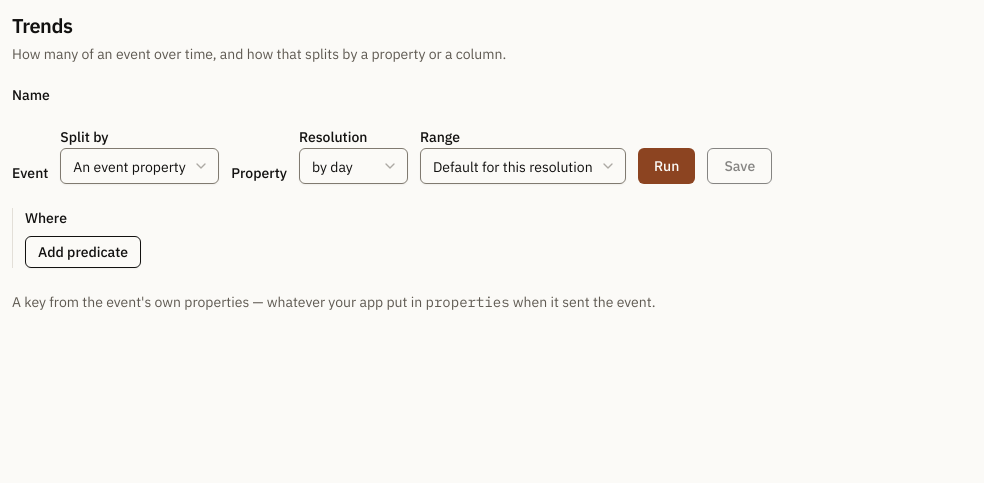
Test case: Trends › clears the chart when the definition changes
The width and height of the screenshot is (984, 483).
Click the button "Run" at (667, 166), box [638,148,695,184]
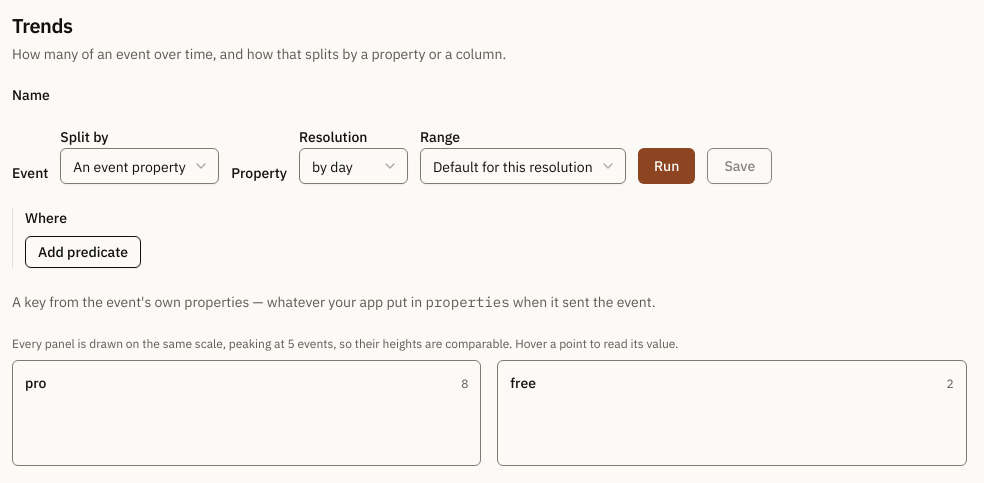
Check: the element with test id "trend-panels" is shown, box [12,336,967,466]
Select "by week" in the dropdown labelled "Resolution" at (354, 166), box [299,148,408,184]
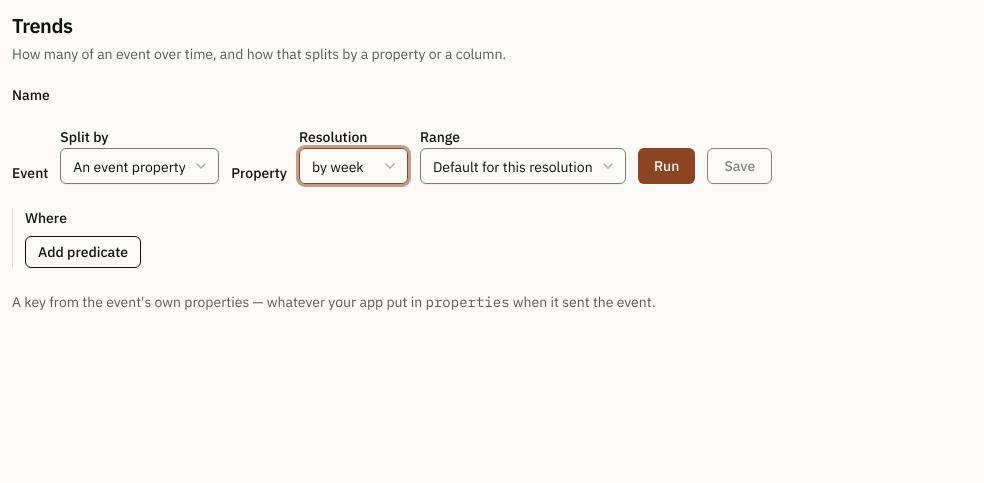
Check: the element with test id "trend-panels" is gone
